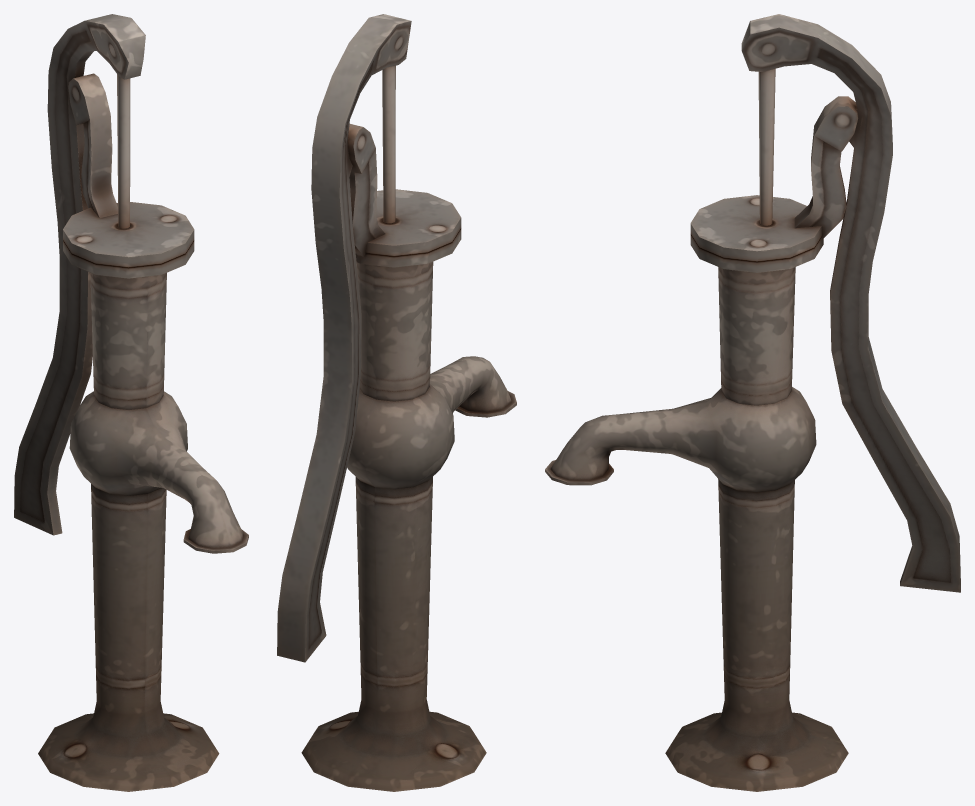
Rendered from WellIron01.FBX.
The picture shows the model from 3 angles, left to right: view 1: azimuth 30°, elevation 25°; view 2: azimuth 150°, elevation 25°; view 3: azimuth 270°, elevation 25°; orthographic projection. The views are drawn at different scales.
Visible parts, largest first — view 1: WellIron01; view 2: WellIron01; view 3: WellIron01.
Part boxes in pixels (bbox=[...]): WellIron01: bbox=[14, 14, 248, 791]; WellIron01: bbox=[277, 14, 516, 791]; WellIron01: bbox=[545, 14, 960, 791].
Size of what is drawn, in the model's own units: 0.3654 by 1.61 by 0.8279.
